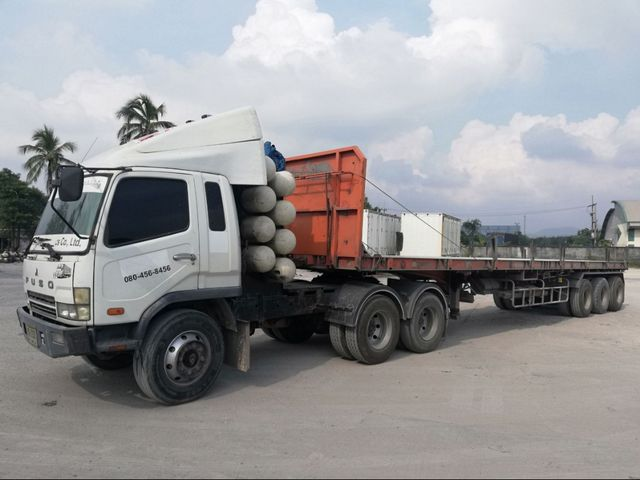truck: (17, 107, 453, 408)
